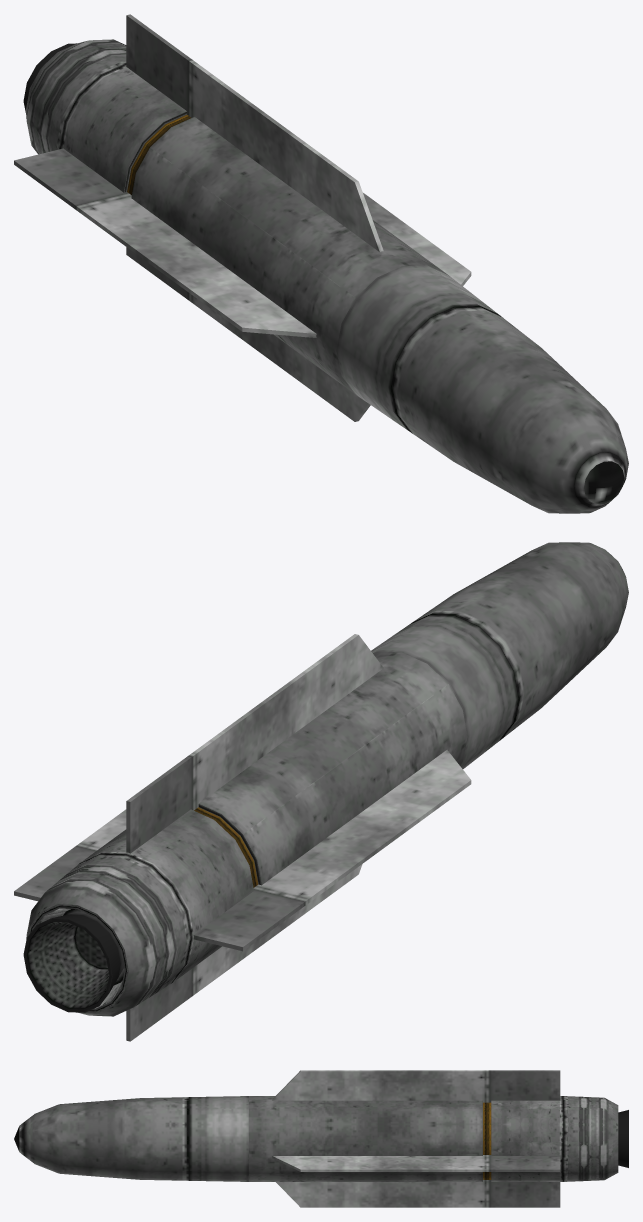
Rendered from AO-4K Spica.fbx.
3 views of the same model, one above another, from view 1: azimuth 30°, elevation 25°; view 2: azimuth 150°, elevation 25°; view 3: azimuth 270°, elevation 25° (orthographic). The views are drawn at different scales.
Parts seen in each view (by area): view 1: AO-4K Spica; view 2: AO-4K Spica; view 3: AO-4K Spica.
Boxes of the visible parts, x1=… form: AO-4K Spica: x1=14, y1=14, x2=628, y2=513; AO-4K Spica: x1=14, y1=542, x2=628, y2=1041; AO-4K Spica: x1=14, y1=1070, x2=628, y2=1207.
Size of the model in its own units: 144 by 144 by 588.
Materials: 1 (1 with a texture image).
